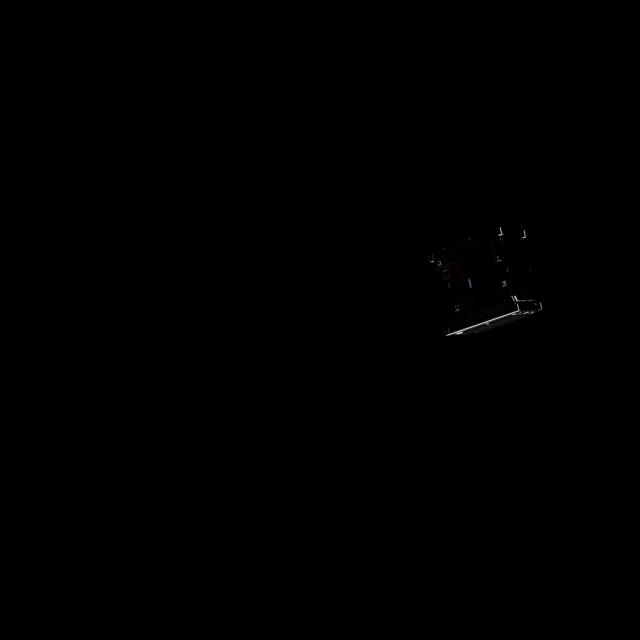satellite: (416, 197, 553, 337)
